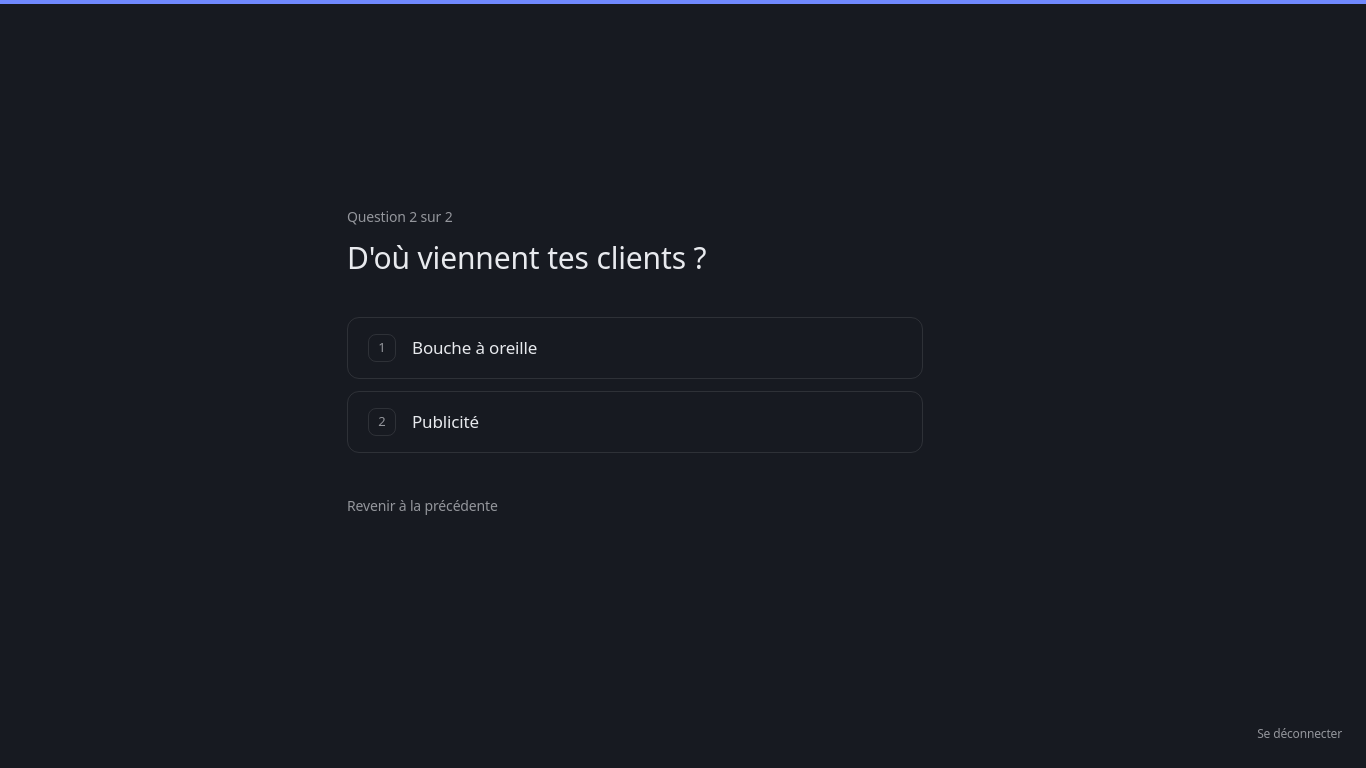
Test case: la porte du profil entrepreneur › la dernière réponse charge l'espace, puis l'ouvre
Click the button "2 Publicité".
click(445, 422)  # box [347,391,923,453]
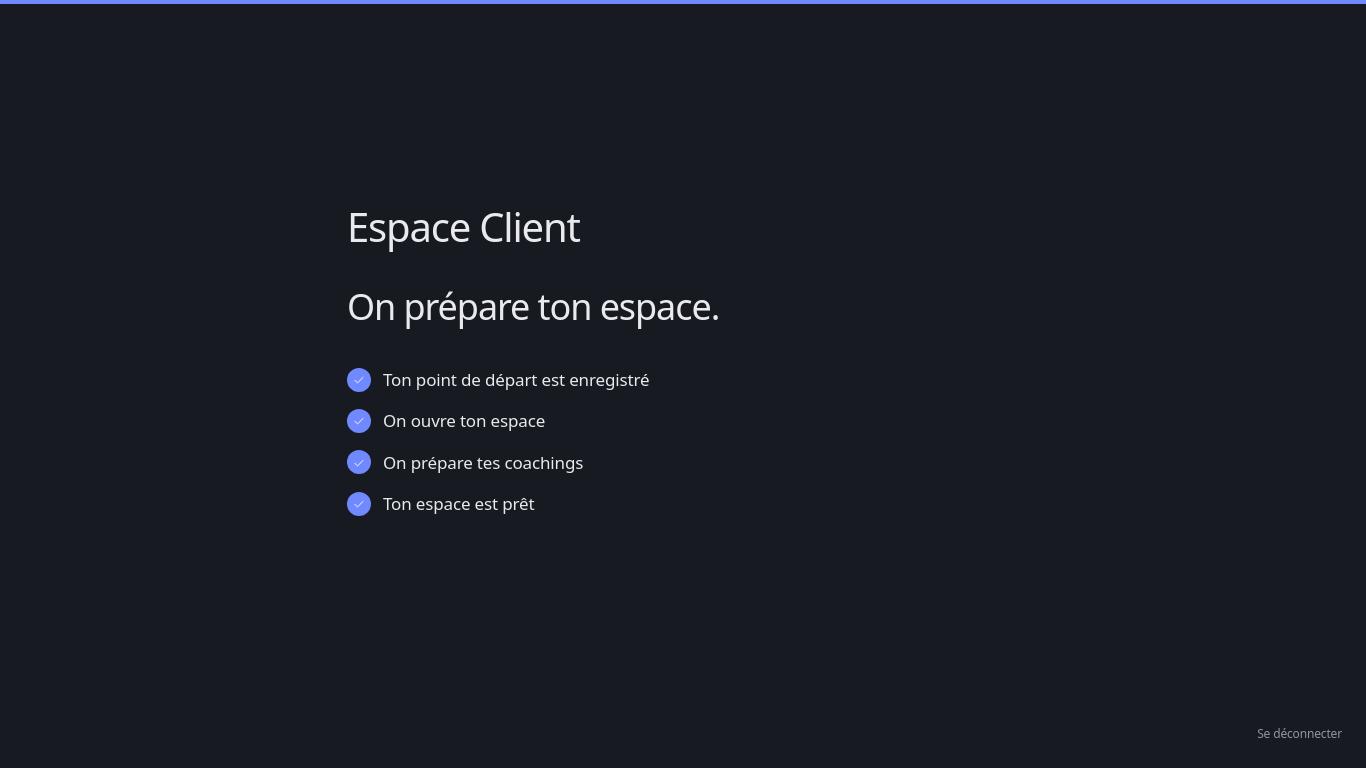
Result: the heading "On prépare ton espace." is shown at [347,282,719,331]
Result: the list item "Ton espace est prêt" is shown at [347,492,534,516]
